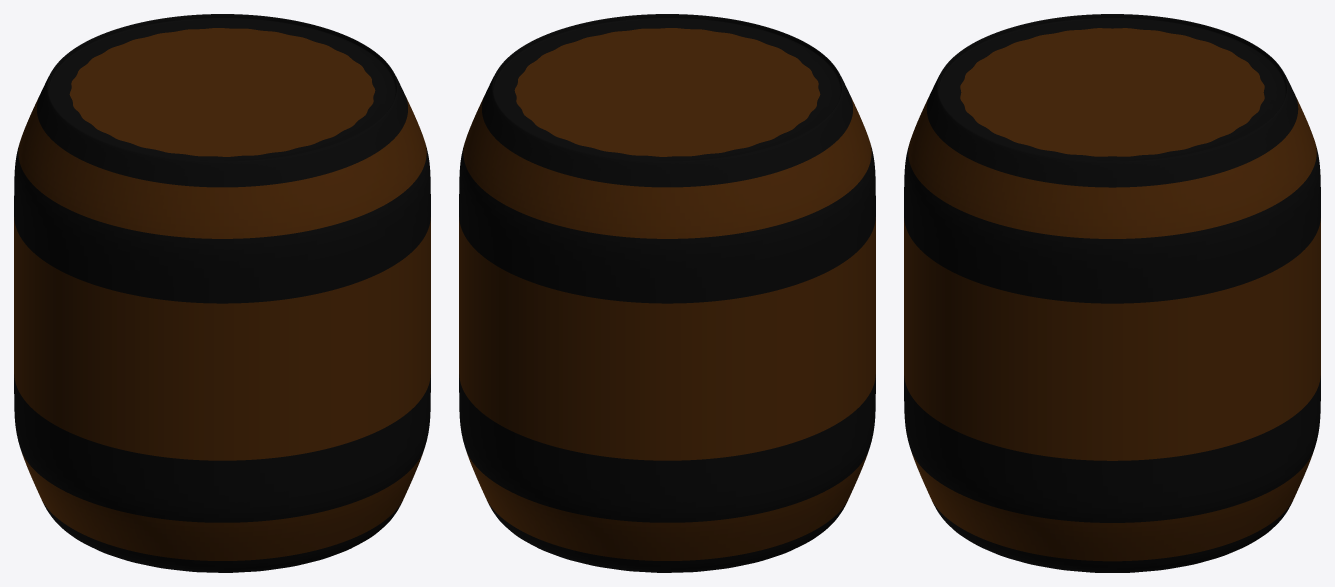
The model's file is barrelv2.fbx.
The picture shows the model from 3 angles, left to right: view 1: azimuth 30°, elevation 25°; view 2: azimuth 150°, elevation 25°; view 3: azimuth 270°, elevation 25°; orthographic projection.
Visible parts, largest first — view 1: Cylinder; view 2: Cylinder; view 3: Cylinder.
Boxes of the visible parts, x1=… form: Cylinder: x1=14, y1=14, x2=430, y2=572; Cylinder: x1=459, y1=14, x2=875, y2=572; Cylinder: x1=904, y1=14, x2=1320, y2=572.
Size of the model in its own units: 238 by 265 by 238.
